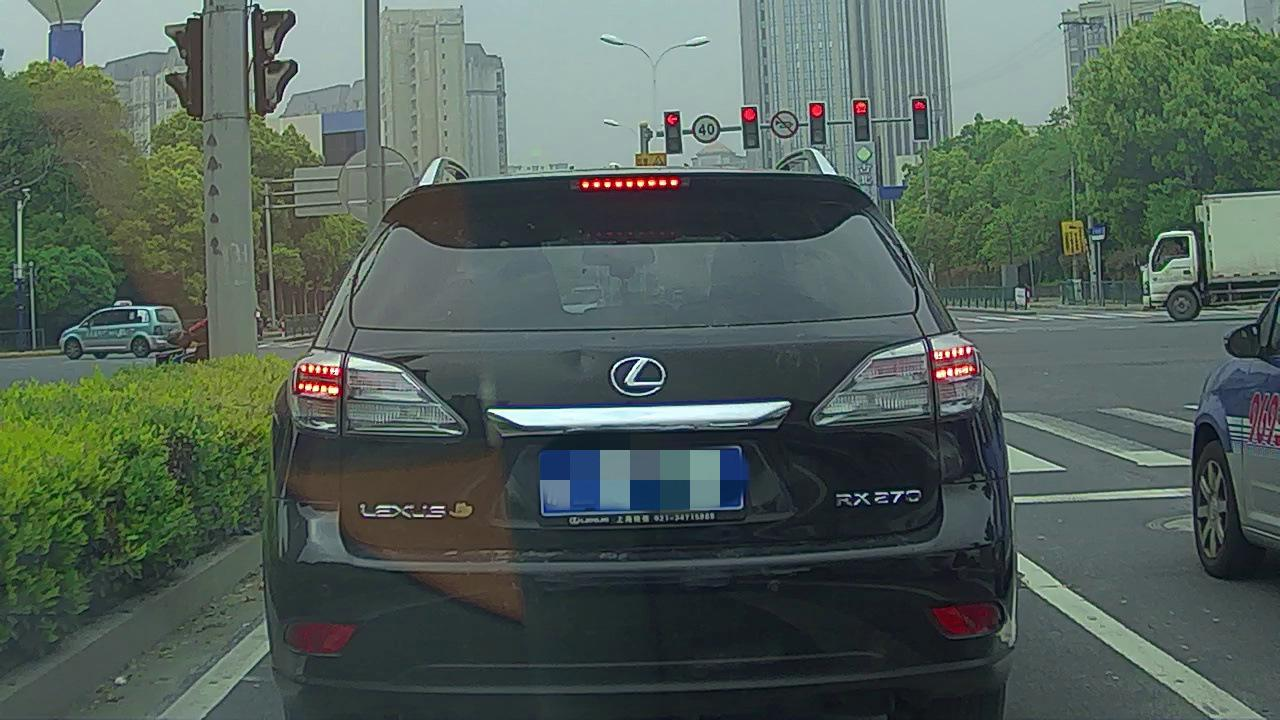traffic_light: (741, 107, 760, 147), (666, 110, 683, 153), (854, 99, 871, 142), (912, 98, 929, 141), (810, 104, 826, 144)
